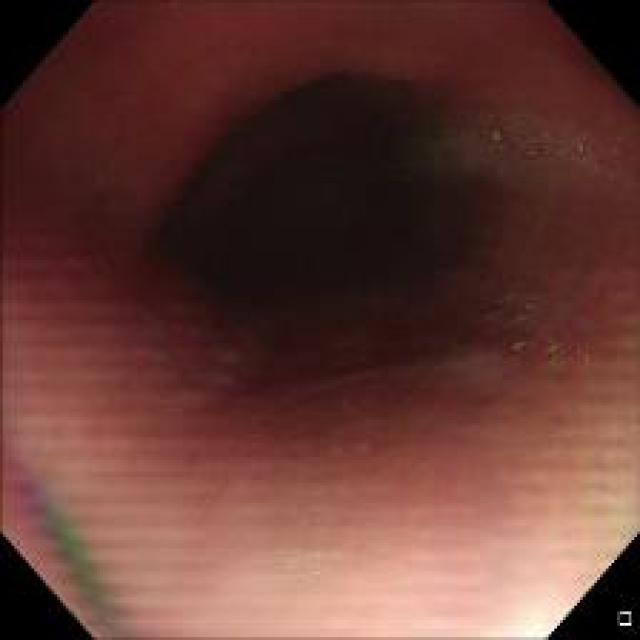color misalignment: (6, 434, 122, 625), (191, 312, 259, 392), (512, 130, 622, 174), (538, 334, 599, 378), (485, 121, 508, 148)
contrast: (159, 66, 521, 408)
